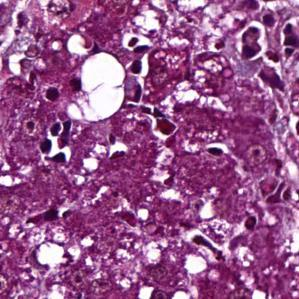ballooning: (67, 48, 128, 123)
